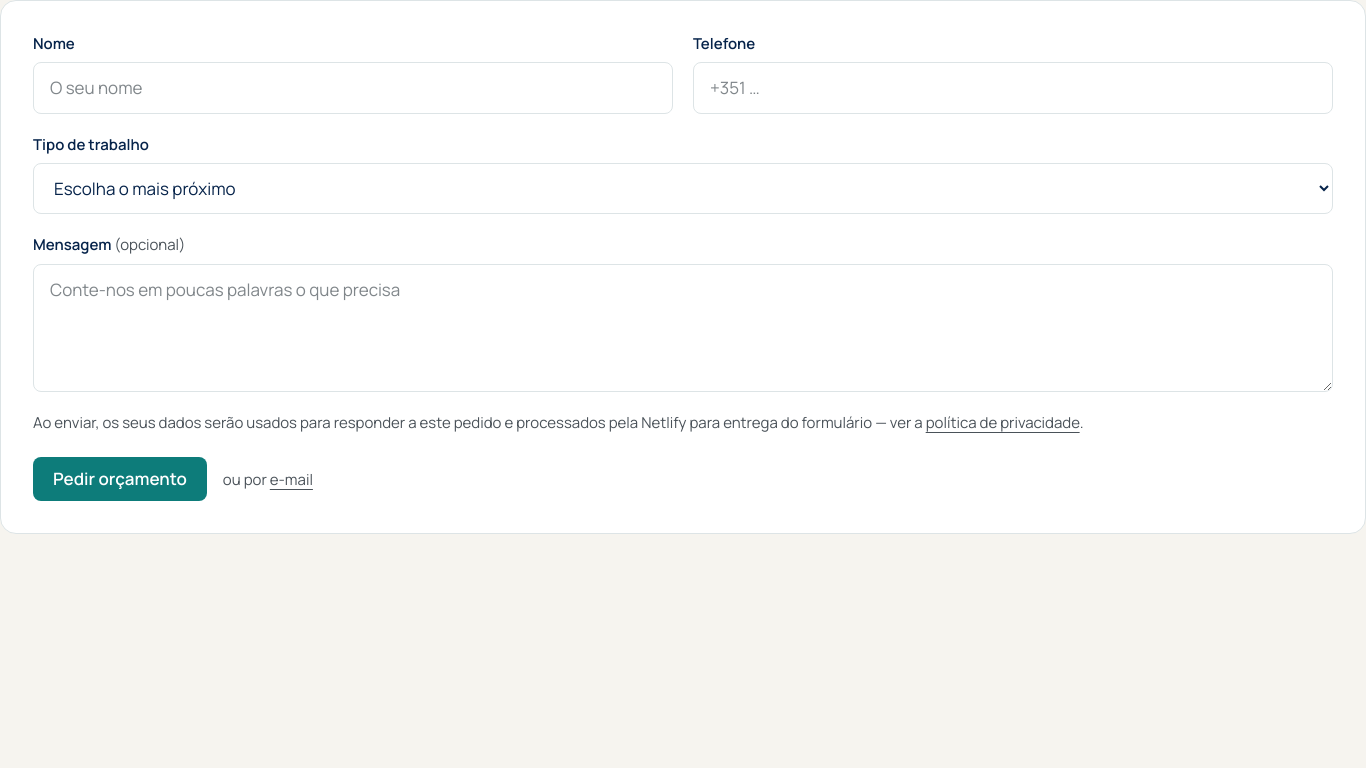
Test: QuoteForm › mostra os canais diretos quando o envio falha
The image size is (1366, 768).
Type "Maria Silva" into the field labelled "Nome" at coordinates (353, 88), box top-left (33, 62), bottom-right (673, 114)
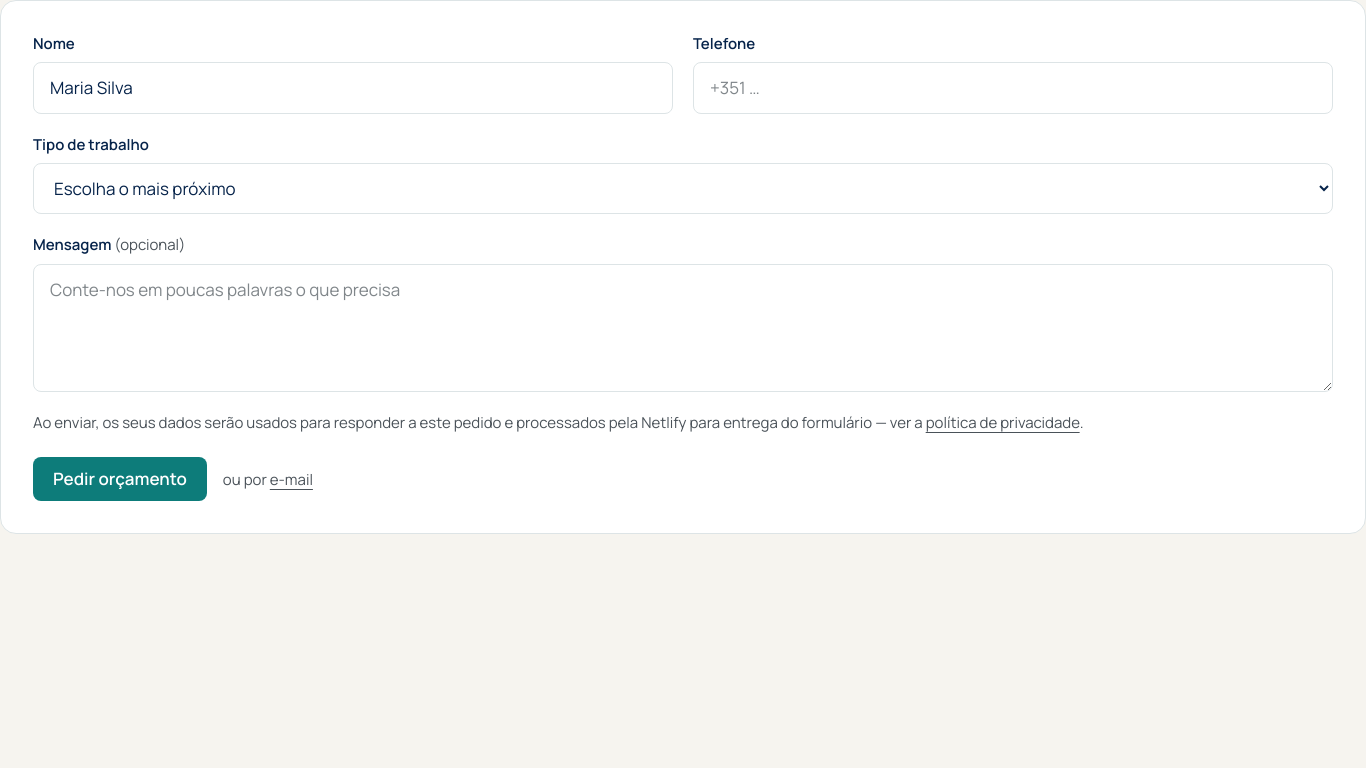
Type "+351 912 345 678" into the field labelled "Telefone" at coordinates (1013, 88), box top-left (693, 62), bottom-right (1333, 114)
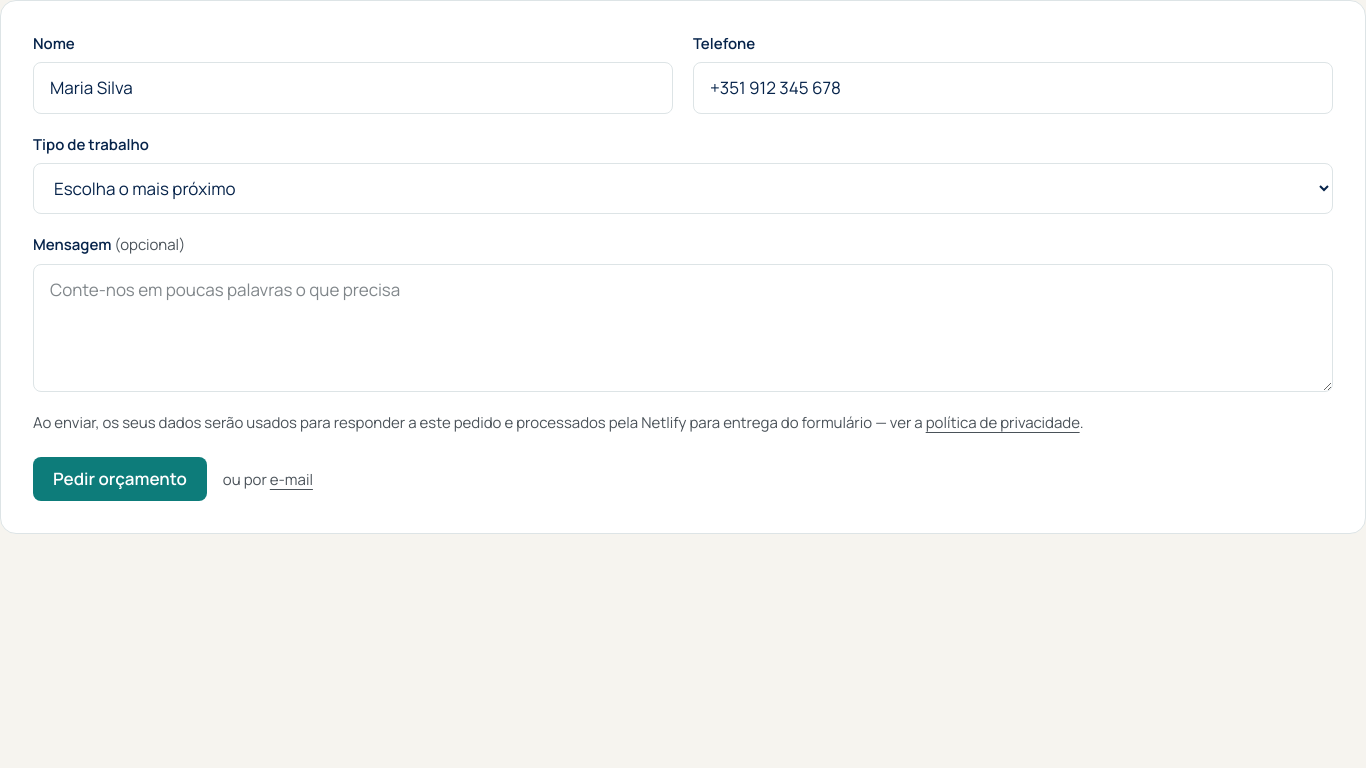
Select "Pintura interior e exterior" in the dropdown labelled "Tipo de trabalho" at coordinates (683, 189), box top-left (33, 163), bottom-right (1333, 214)
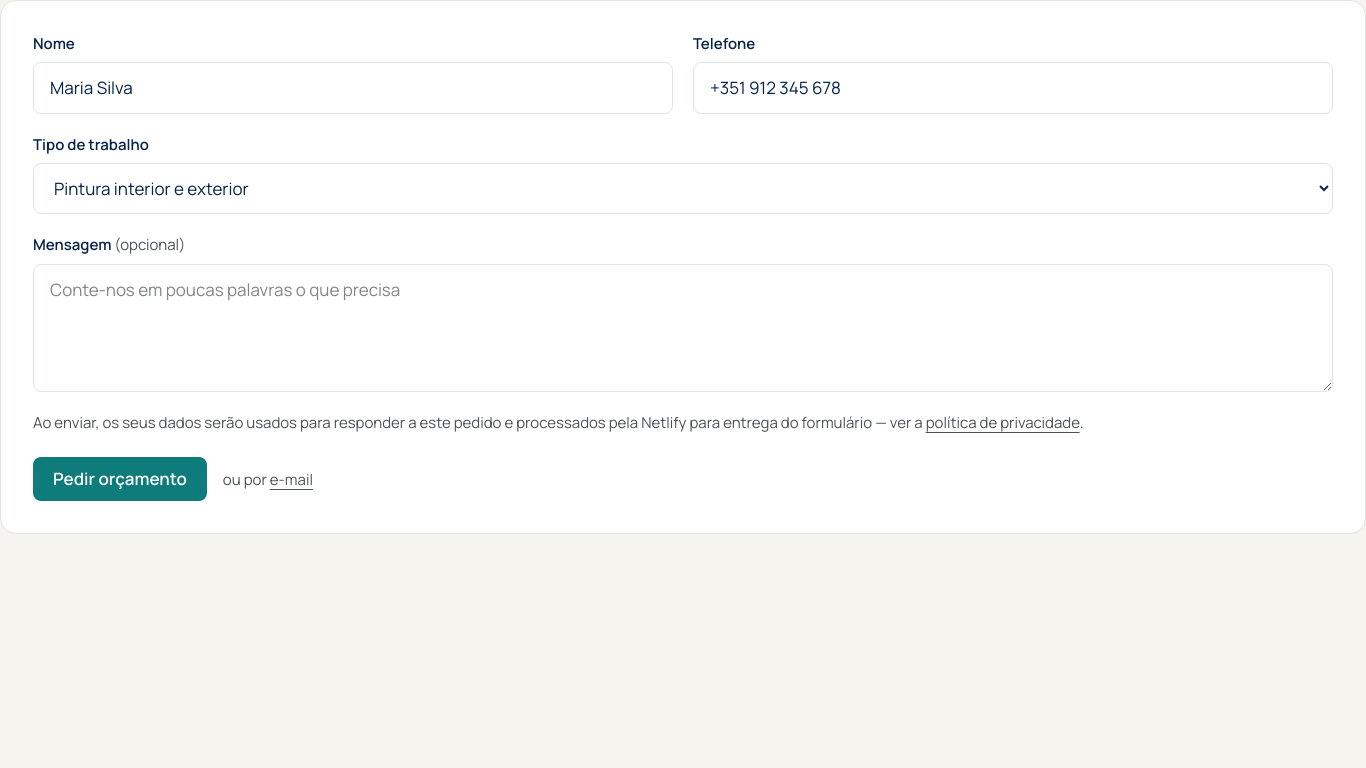
Click the button "Pedir orçamento" at coordinates (120, 479), box top-left (33, 457), bottom-right (207, 501)
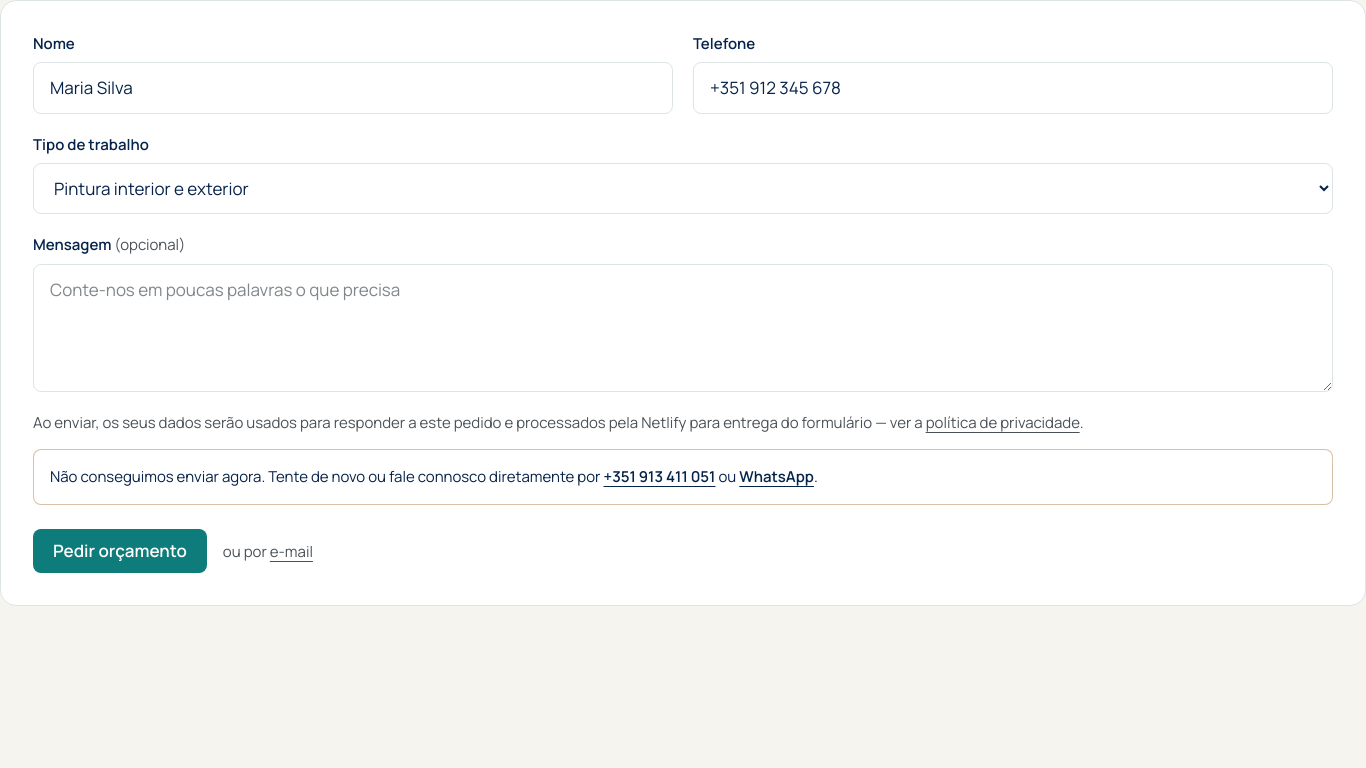
Expected: the message is shown, top-left (33, 449), bottom-right (1333, 505)
Expected: the message shows "WhatsApp", top-left (739, 466), bottom-right (814, 487)
